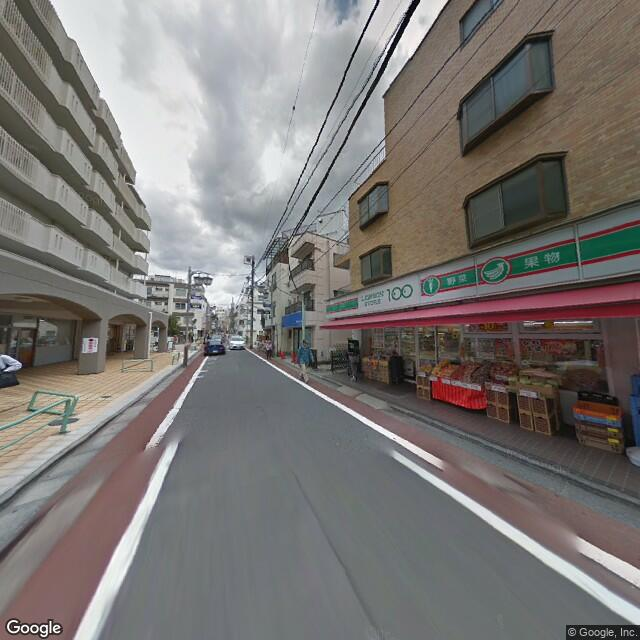lawson: (326, 197, 639, 322)
